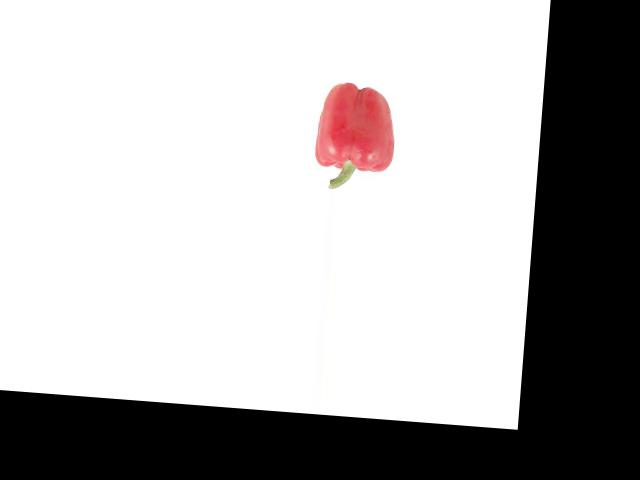bell_pepper: (308, 79, 410, 193)
